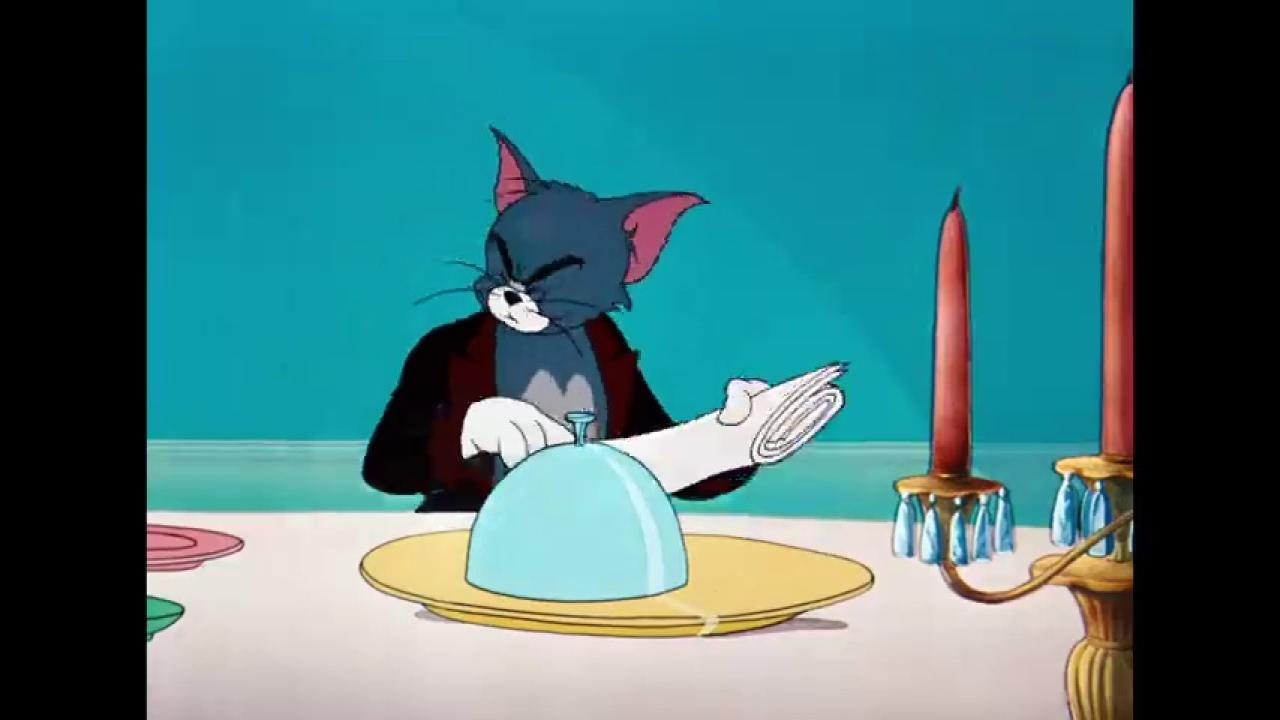Tom: (360, 124, 773, 513)
